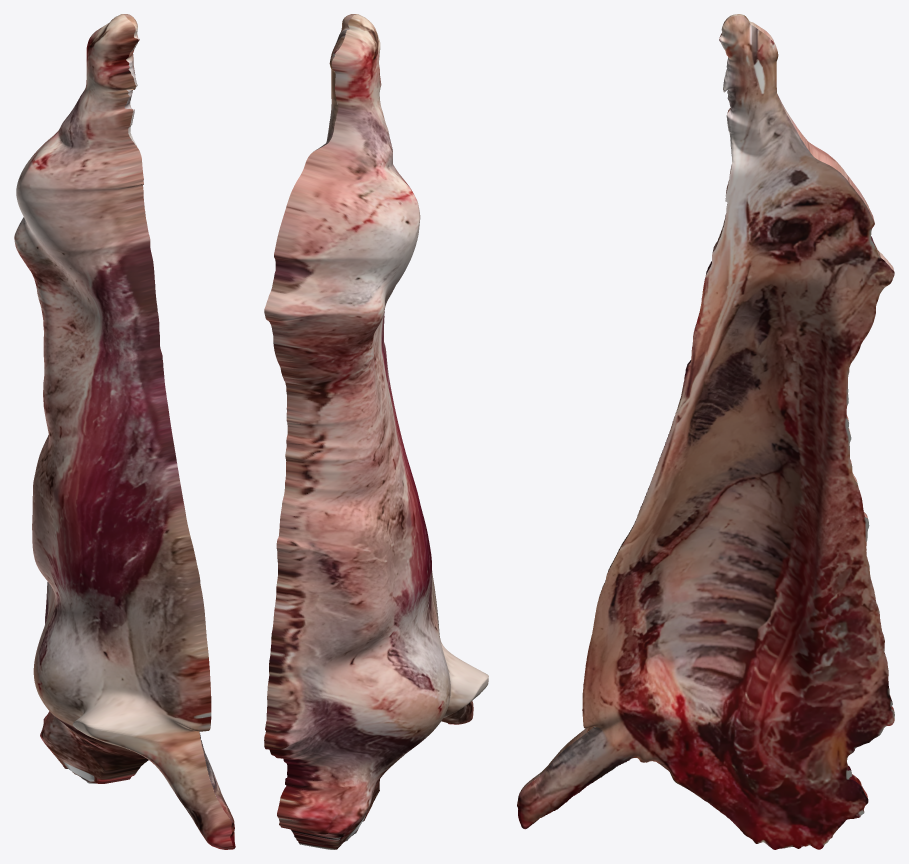
File: demi_carcasse_boeuf_v4.glb
The picture shows the model from 3 angles, left to right: view 1: azimuth 30°, elevation 25°; view 2: azimuth 150°, elevation 25°; view 3: azimuth 270°, elevation 25°; orthographic projection. The views are drawn at different scales.
Parts seen in each view (by area): view 1: face_exterieure, face_de_fente; view 2: face_exterieure, face_de_fente; view 3: face_de_fente, face_exterieure.
Boxes of the visible parts, bbox=[...] form: face_exterieure: bbox=[14, 14, 233, 849]; face_de_fente: bbox=[123, 14, 235, 848]; face_exterieure: bbox=[264, 14, 488, 849]; face_de_fente: bbox=[313, 14, 448, 723]; face_de_fente: bbox=[517, 15, 894, 849]; face_exterieure: bbox=[519, 14, 894, 811].
Size of the model in its own units: 0.3303 by 2.5 by 1.04.
Materials: 2 (2 with a texture image).
